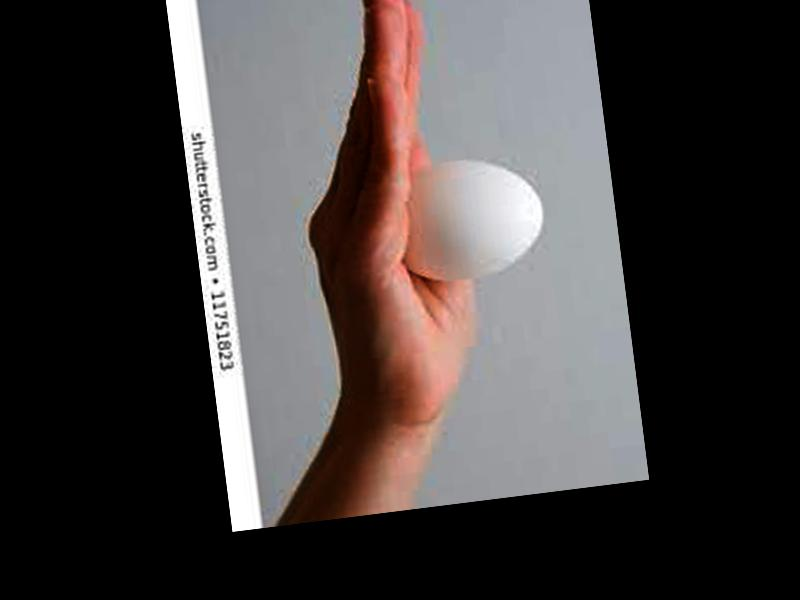Eggs: (391, 151, 548, 280)
